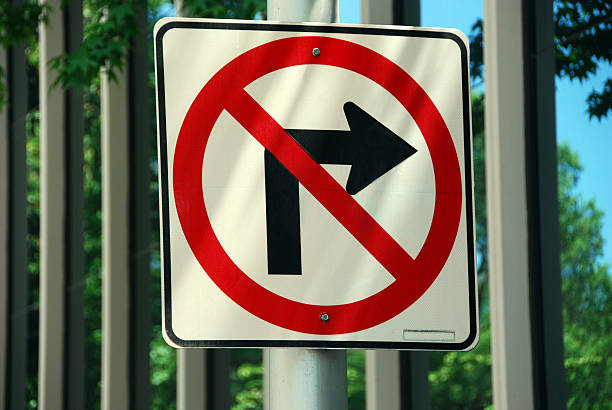saga_girilmez: (172, 36, 466, 332)
